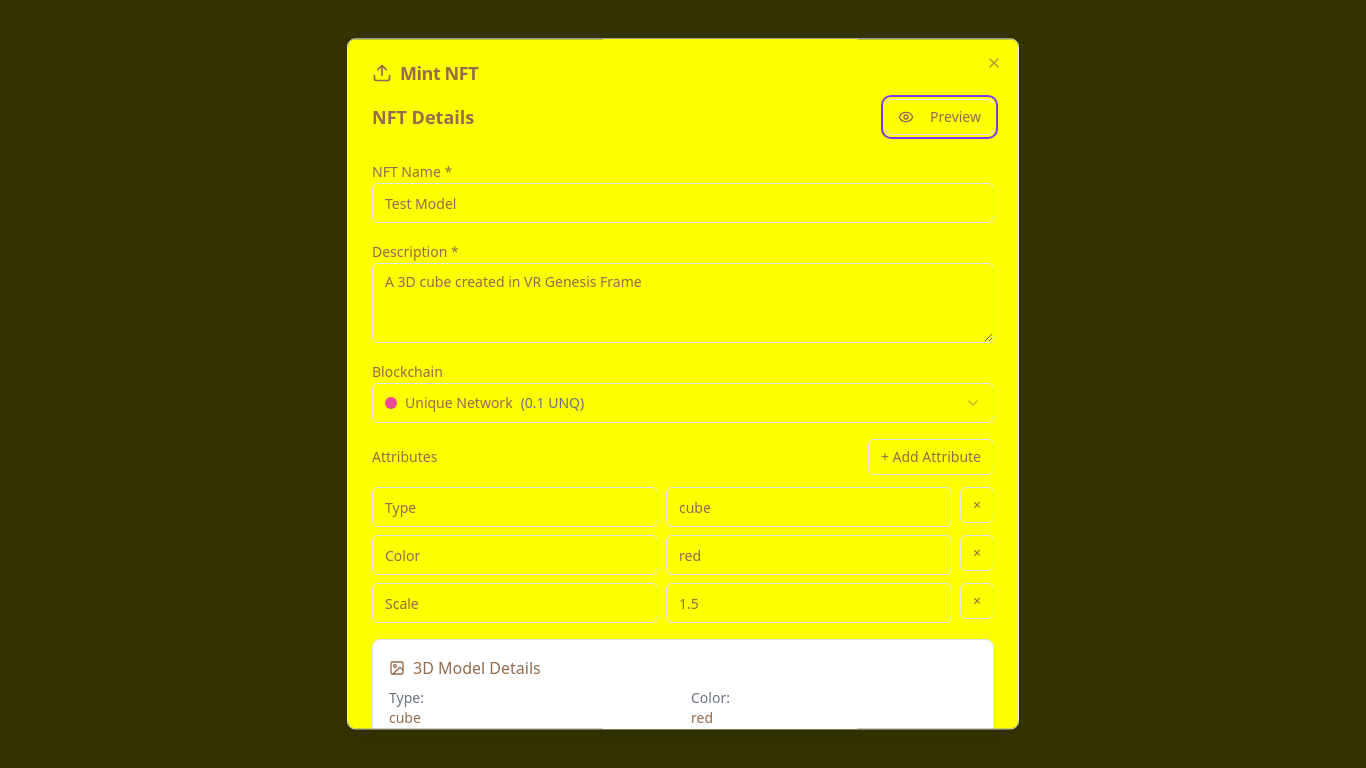
MintingModal › validates required fields
# Clear the name field
Clear the field labelled "NFT Name *" at (683, 203), box [372,183,994,223]
(page scrolled)
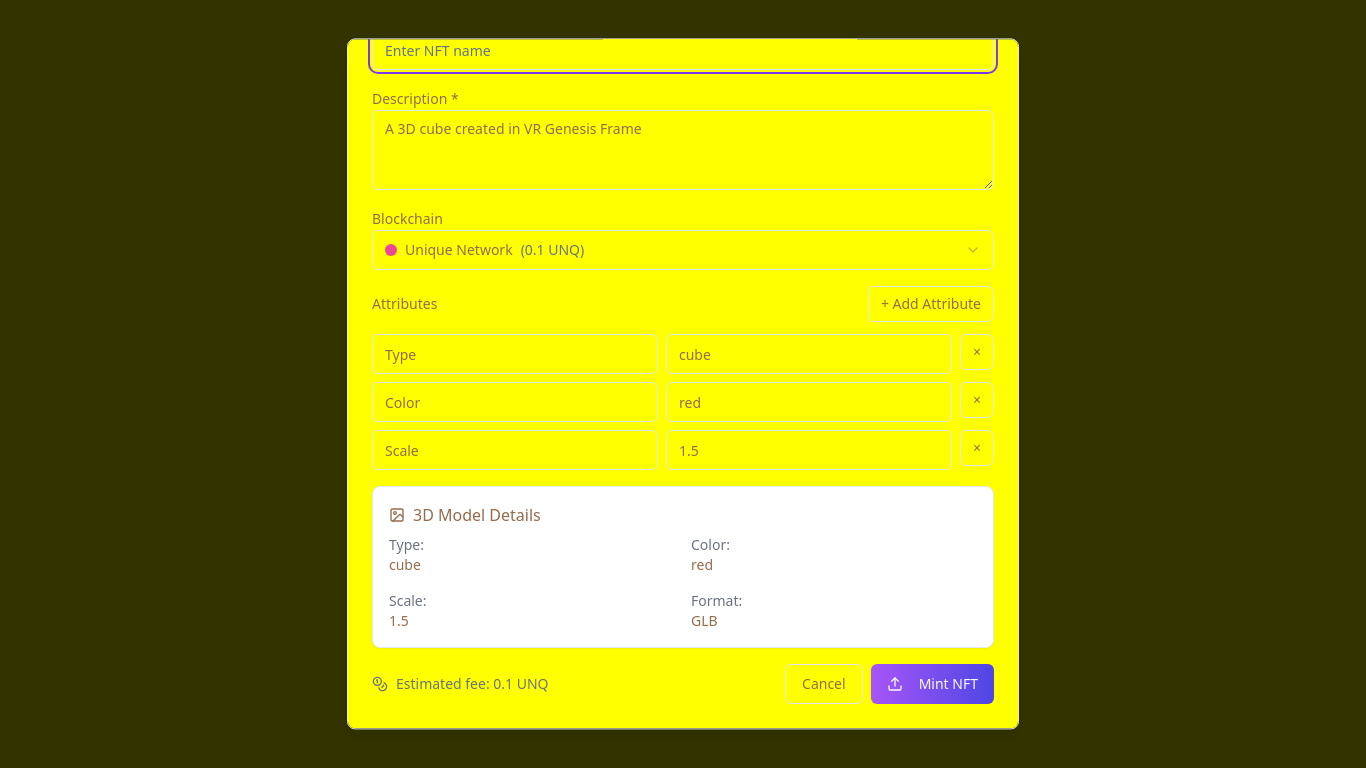
# Try to mint
Click the button "Mint NFT" at (932, 684), box [871,664,994,704]
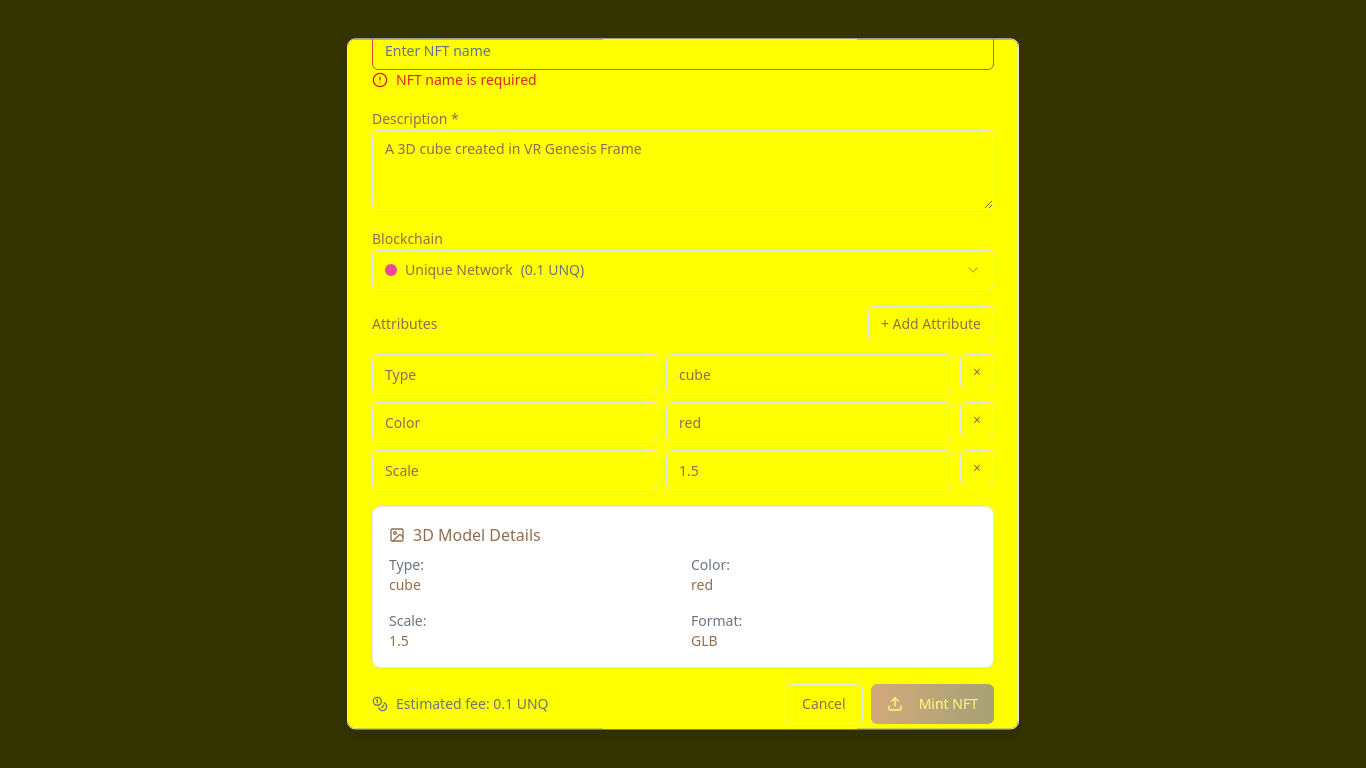
Check: the text "NFT name is required" is shown, box [396,70,537,90]
